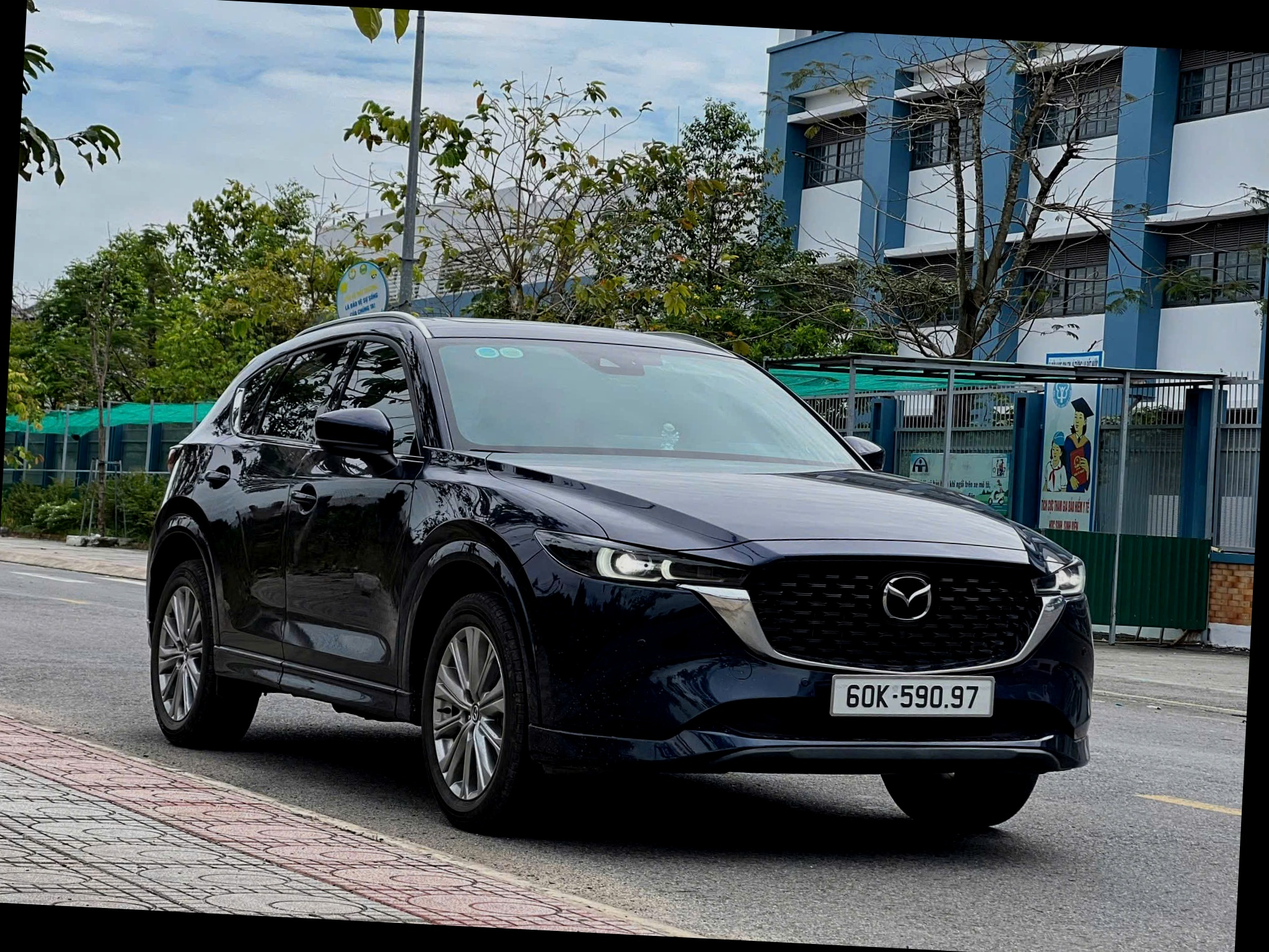Bien-so: (863, 645, 1034, 694)
